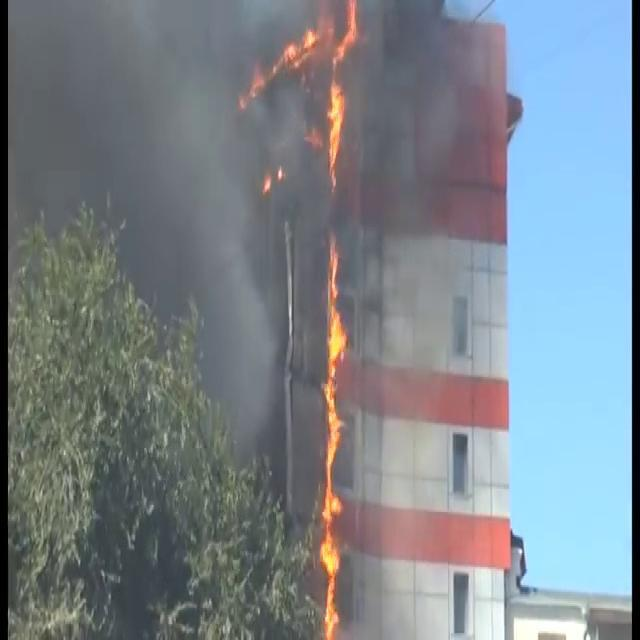Fire: (314, 235, 351, 633), (318, 0, 366, 181), (254, 0, 332, 89)
Smoke: (11, 1, 290, 449)
